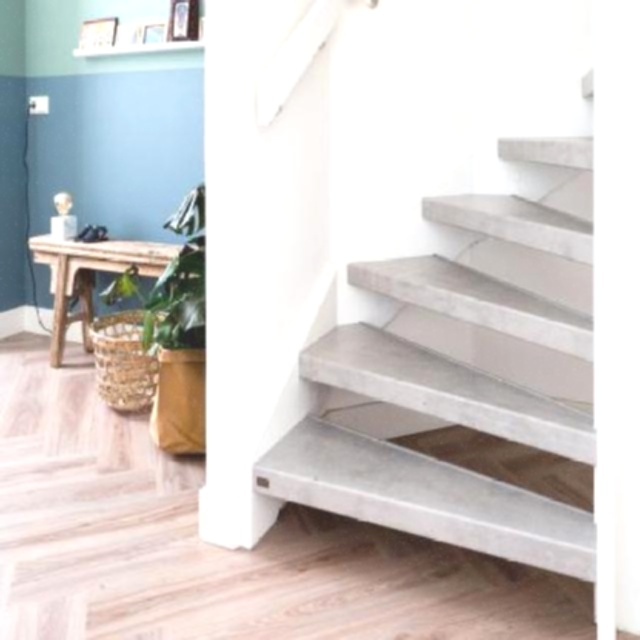stair: (217, 21, 640, 594)
